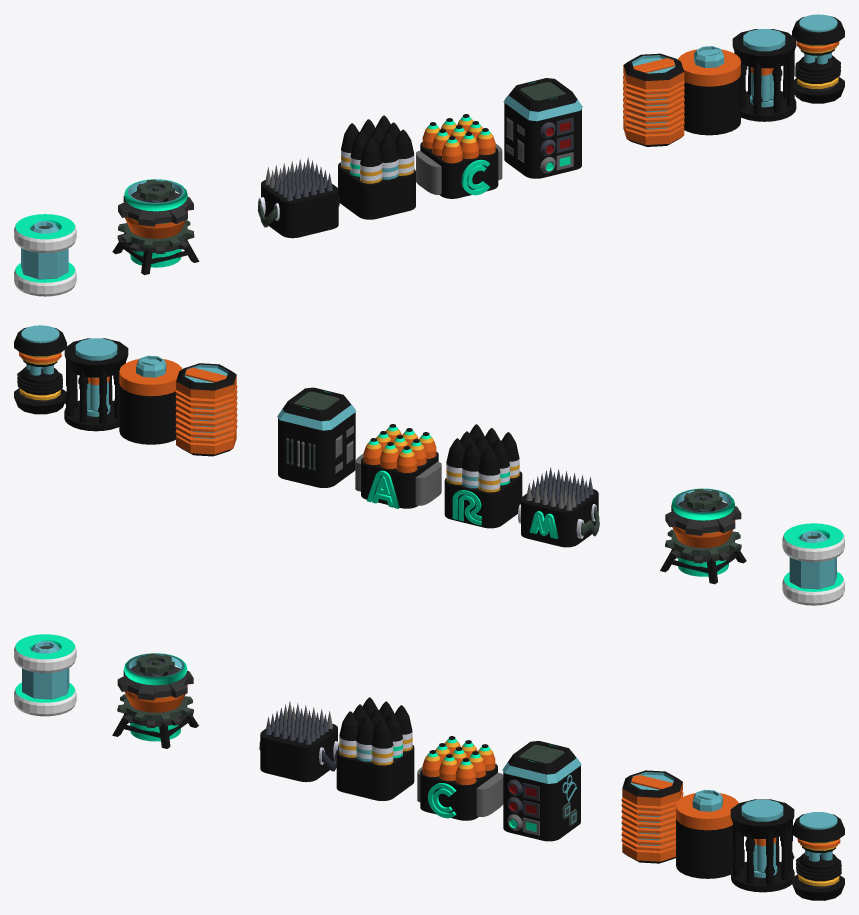
Rendered from RepairStation.glb.
3 views of the same model, one above another, from view 1: azimuth 30°, elevation 25°; view 2: azimuth 150°, elevation 25°; view 3: azimuth 330°, elevation 25° (orthographic).
Parts seen in each view (by area): view 1: cylinderSquare (×4), cylinder (×4), handguard_coyote_back (×3), Greeble06 (×3), Torus02 (×2), Dock01, rocket_006 (×3), middle_010_short, Tank01, ring_bevelEdges, pipe_largeExhaust, Torus03 (+6 smaller); view 2: cylinderSquare (×4), cylinder (×4), handguard_coyote_back (×3), Greeble06 (×3), Torus02 (×2), Dock01, rocket_006 (×3), middle_010_short, Tank01, ring_bevelEdges, pipe_largeExhaust, detail_top_carmine_center (+8 smaller); view 3: cylinderSquare (×4), cylinder (×4), handguard_coyote_back (×3), Greeble06 (×3), Torus02 (×2), Dock01, rocket_006 (×3), middle_010_short, Tank01, ring_bevelEdges, pipe_largeExhaust, detail_top_carmine_center (+6 smaller).
Boxes of the visible parts, x1=… form: cylinderSquare (×4): x1=261, y1=103, x2=581, y2=238; cylinder (×4): x1=678, y1=14, x2=837, y2=135; handguard_coyote_back (×3): x1=732, y1=16, x2=844, y2=103; Greeble06 (×3): x1=623, y1=46, x2=724, y2=146; Torus02 (×2): x1=14, y1=214, x2=76, y2=296; Dock01: x1=503, y1=78, x2=582, y2=121; rocket_006 (×3): x1=360, y1=129, x2=414, y2=183; middle_010_short: x1=795, y1=41, x2=840, y2=88; Tank01: x1=21, y1=221, x2=68, y2=279; ring_bevelEdges: x1=118, y1=191, x2=193, y2=226; pipe_largeExhaust: x1=125, y1=211, x2=187, y2=267; Torus03: x1=124, y1=179, x2=187, y2=211; cylinderSquare (×4): x1=278, y1=412, x2=598, y2=547; cylinder (×4): x1=21, y1=325, x2=182, y2=444; handguard_coyote_back (×3): x1=14, y1=327, x2=128, y2=414; Greeble06 (×3): x1=136, y1=355, x2=236, y2=456; Torus02 (×2): x1=782, y1=523, x2=844, y2=605; Dock01: x1=277, y1=387, x2=356, y2=430; rocket_006 (×3): x1=446, y1=438, x2=500, y2=492; middle_010_short: x1=17, y1=351, x2=62, y2=400; Tank01: x1=789, y1=531, x2=836, y2=589; ring_bevelEdges: x1=665, y1=500, x2=741, y2=535; pipe_largeExhaust: x1=672, y1=520, x2=735, y2=576; detail_top_carmine_center: x1=415, y1=461, x2=441, y2=505; cylinderSquare (×4): x1=260, y1=724, x2=580, y2=841; cylinder (×4): x1=676, y1=793, x2=837, y2=892; handguard_coyote_back (×3): x1=730, y1=799, x2=844, y2=900; Greeble06 (×3): x1=622, y1=770, x2=722, y2=863; Torus02 (×2): x1=14, y1=634, x2=76, y2=716; Dock01: x1=502, y1=741, x2=581, y2=783; rocket_006 (×3): x1=339, y1=711, x2=393, y2=765; middle_010_short: x1=796, y1=838, x2=841, y2=886; Tank01: x1=22, y1=641, x2=69, y2=699; ring_bevelEdges: x1=117, y1=665, x2=193, y2=700; pipe_largeExhaust: x1=125, y1=685, x2=187, y2=741; detail_top_carmine_center: x1=476, y1=772, x2=503, y2=816.
Size of the model in its own units: 14.9 by 1.34 by 1.2.
Materials: 1 (1 with a texture image).
